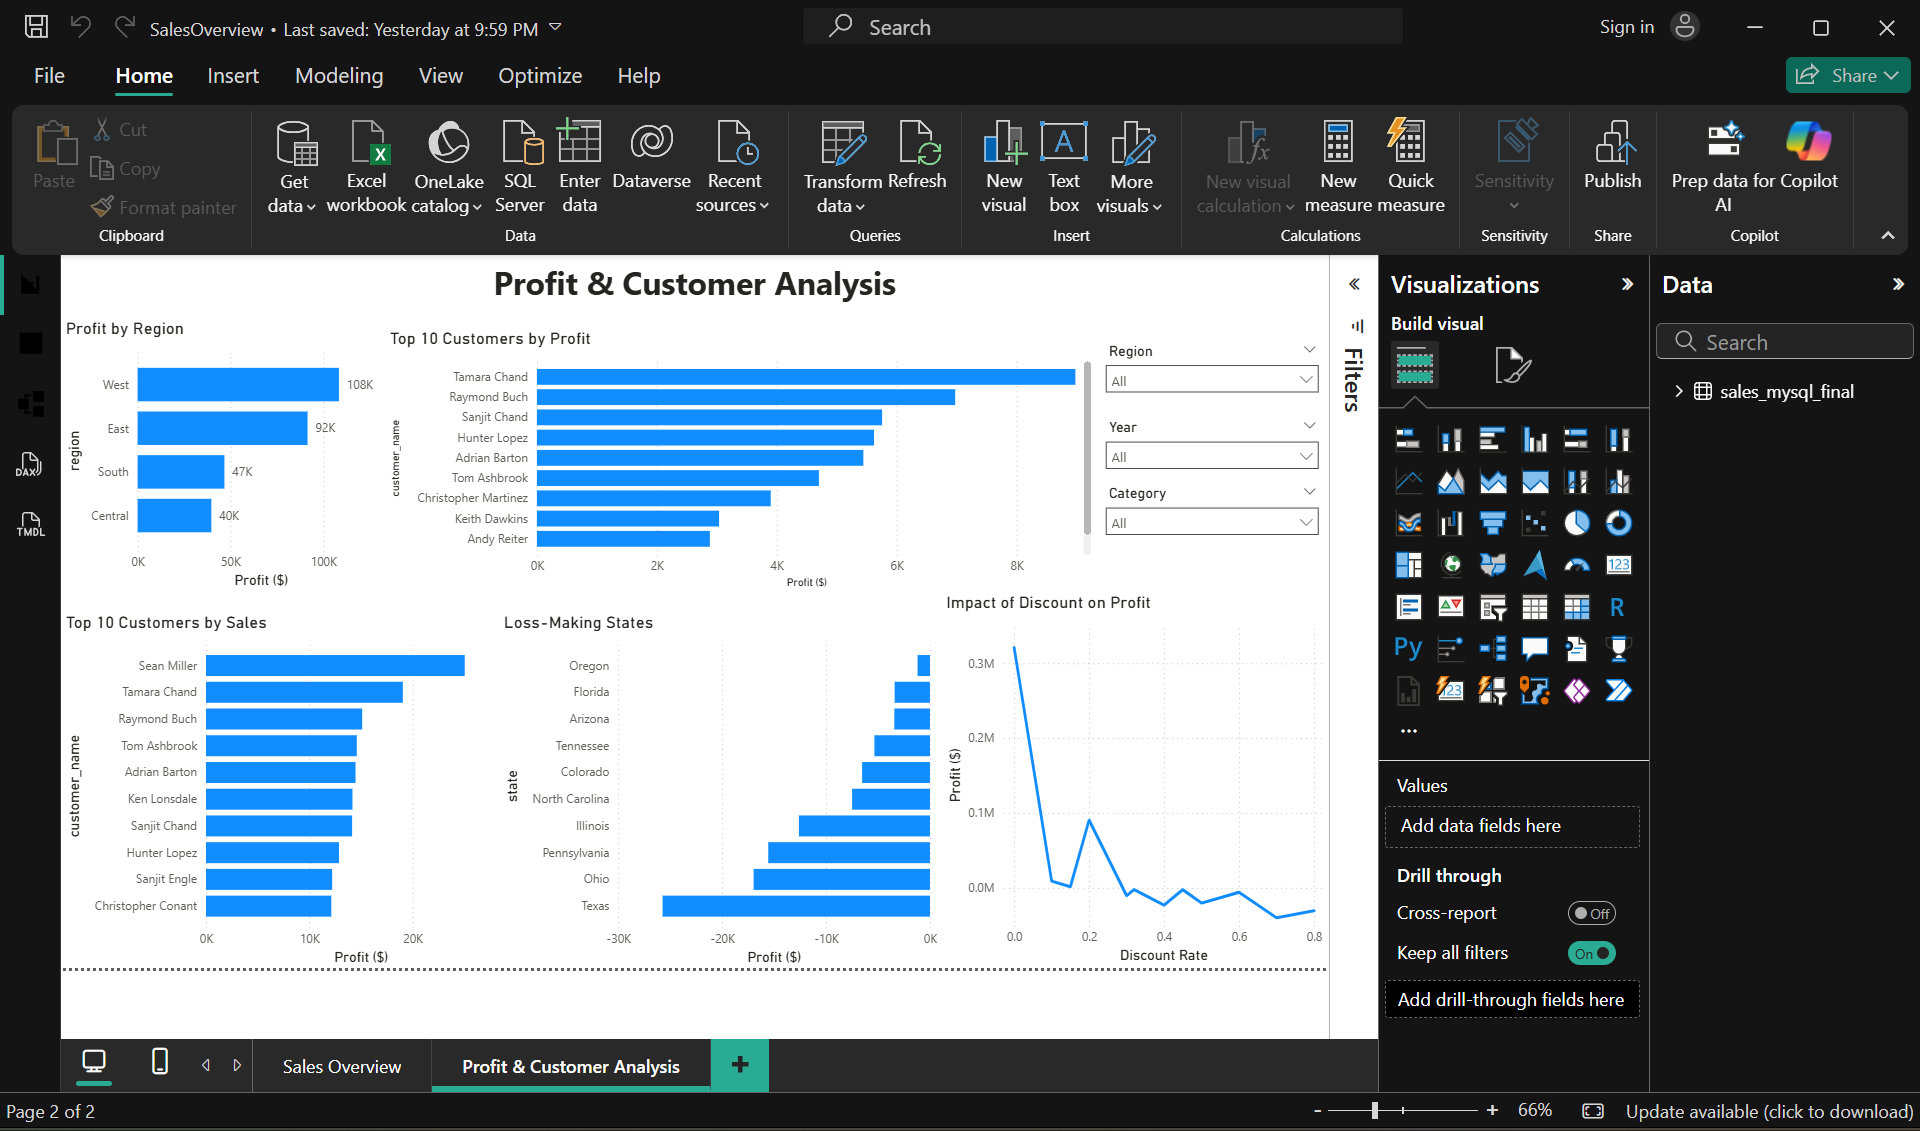

This screenshot's page, from the dashboard's own definition file:
{"tool":"powerbi","page":{"name":"Profit & Customer Analysis","canvas":[1280,720],"ordinal":1},"visuals":[{"type":"clusteredBarChart","title":"Profit by Region","fields":{"Category":["sales_mysql_final.region"],"Y":["Sum(sales_mysql_final.profit)"]},"box":[0,63.6,345.2,277.1],"z":0},{"type":"clusteredBarChart","title":"Top 10 Customers by Sales","fields":{"Category":["sales_mysql_final.customer_name"],"Y":["Sum(sales_mysql_final.sales)"]},"box":[0,360.4,473.9,360.4],"z":1000},{"type":"clusteredBarChart","title":"Top 10 Customers by Profit","fields":{"Category":["sales_mysql_final.customer_name"],"Y":["Sum(sales_mysql_final.profit)"]},"box":[327.1,74.2,717.7,266.5],"z":2000},{"type":"clusteredBarChart","title":"Loss-Making States","fields":{"Category":["sales_mysql_final.state"],"Y":["Sum(sales_mysql_final.profit)"]},"box":[442.1,360.4,446.7,360.4],"z":3000},{"type":"lineChart","title":"Impact of Discount on Profit","fields":{"Category":["sales_mysql_final.discount"],"Y":["Sum(sales_mysql_final.profit)"]},"box":[888.8,340.7,390.7,378.6],"z":4000},{"type":"slicer","fields":{"Values":["sales_mysql_final.region"]},"box":[1044.8,83.3,234.7,77.2],"z":5000},{"type":"slicer","fields":{"Values":["sales_mysql_final.category"]},"box":[1044.8,227.1,234.7,72.7],"z":6000},{"type":"slicer","fields":{"Values":["sales_mysql_final.order_date.Variation.Date Hierarchy.Year"]},"box":[1044.8,160.5,234.7,66.6],"z":7000},{"type":"textbox","box":[0,0,1279.5,63.6],"z":8000}]}

Visuals, with their boxes on the page's 1280x720 design canvas (x1, y1, x2, y2). These are canvas units, not pixel positions in the 1920x1131 screenshot, which may show the page scaled, cropped or inside an application window:
"Profit by Region" clusteredBarChart: 0:64:345:341
"Top 10 Customers by Sales" clusteredBarChart: 0:360:474:721
"Top 10 Customers by Profit" clusteredBarChart: 327:74:1045:341
"Loss-Making States" clusteredBarChart: 442:360:889:721
"Impact of Discount on Profit" lineChart: 889:341:1280:719
slicer - sales_mysql_final.region: 1045:83:1280:160
slicer - sales_mysql_final.category: 1045:227:1280:300
slicer - sales_mysql_final.order_date.Variation.Date Hierarchy.Year: 1045:160:1280:227
textbox: 0:0:1280:64
